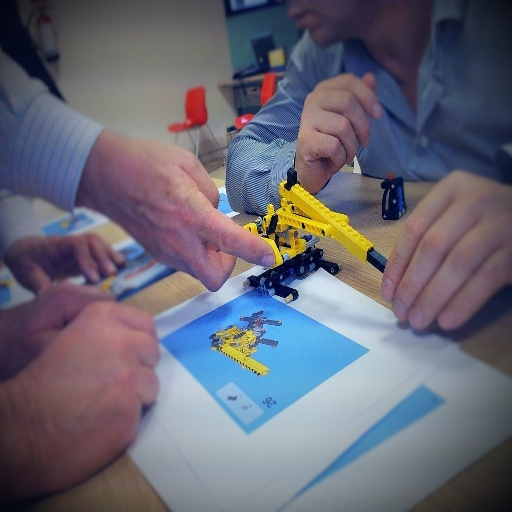hand: (9, 301, 160, 502), (92, 134, 276, 293), (378, 167, 511, 332), (0, 278, 114, 379), (294, 72, 382, 195), (3, 233, 127, 294)
